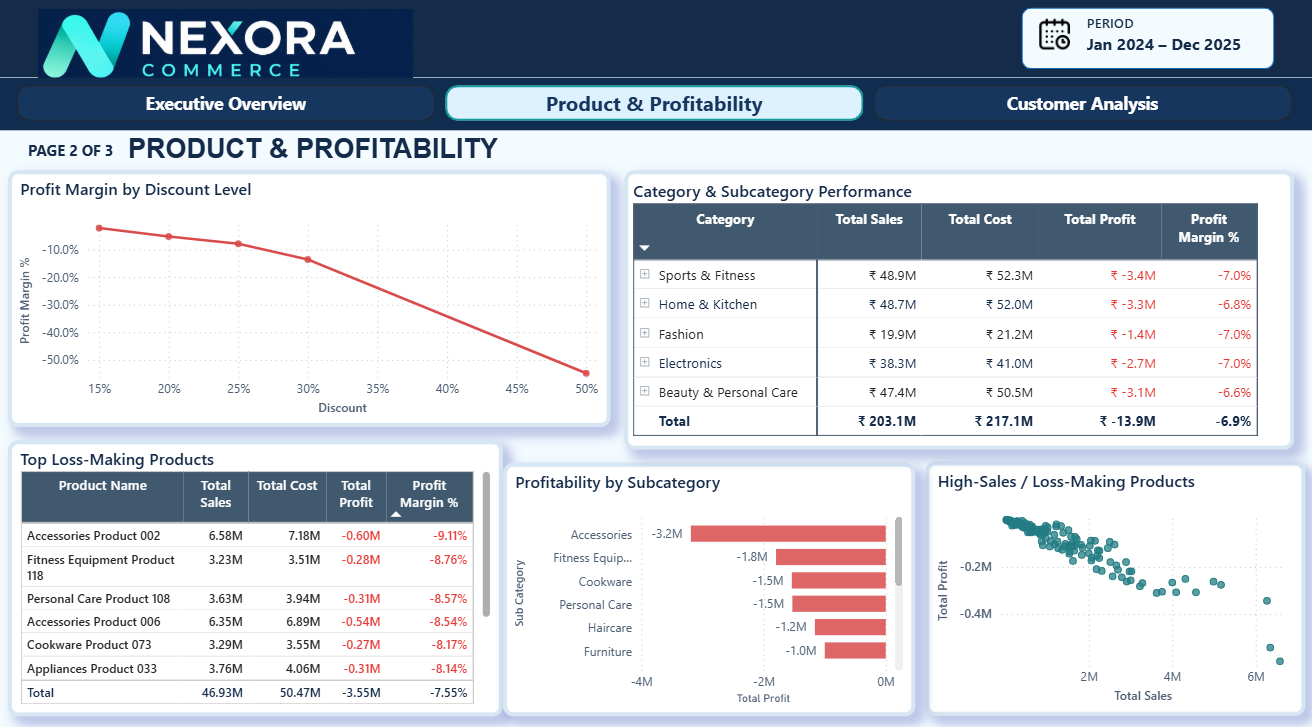

The dashboard page shown, as its layout file describes it:
{"tool":"powerbi","page":{"name":"Product & Profitability","canvas":[1300,720],"ordinal":1},"visuals":[{"type":"shape","box":[0,0,1300.5,77.2],"z":0},{"type":"image","box":[10,10,429.5,77.2],"z":1000},{"type":"shape","box":[0,77.2,1300.5,51.9],"z":2000},{"type":"textbox","box":[24.8,134.6,126.7,33.8],"z":3000},{"type":"textbox","box":[123.3,127.9,516.3,40.7],"z":4000},{"type":"pageNavigator","box":[18.7,85,1261.3,35.4],"z":5000},{"type":"shape","box":[1011.3,8.5,249.3,60.6],"z":6000},{"type":"textbox","box":[1070.4,9.9,166.2,59.2],"z":7000},{"type":"image","box":[1028.2,9.9,30.7,49.6],"z":8000},{"type":"lineChart","title":"Profit Margin by Discount Level","fields":{"Y":["order_details_clean.Profit Margin %"],"Category":["order_details_clean.Discount"]},"box":[9.8,168.6,595.1,253.6],"z":9000},{"type":"scatterChart","title":"High-Sales / Loss-Making Products","fields":{"X":["order_details_clean.Total sales"],"Y":["order_details_clean.Total Profit"],"Category":["products_clean.Product_Name"]},"box":[915.9,457.3,384.1,251.2],"z":10000},{"type":"tableEx","title":"Top Loss-Making Products","fields":{"Values":["products_clean.Product_Name","order_details_clean.Total sales","order_details_clean.Total Cost","order_details_clean.Total Profit","order_details_clean.Profit Margin %"]},"box":[10,435.3,488.7,272.7],"z":11000},{"type":"barChart","title":"Profitability by Subcategory","fields":{"Category":["products_clean.Subcategory"],"Y":["order_details_clean.Total Profit"]},"box":[498.6,457.7,407,250.7],"z":12000},{"type":"pivotTable","title":"Category & Subcategory Performance","fields":{"Rows":["products_clean.Category","products_clean.Subcategory"],"Values":["order_details_clean.Total sales","order_details_clean.Total Cost","order_details_clean.Total Profit","order_details_clean.Profit Margin %"]},"box":[618.8,168.6,662,275.9],"z":13000}]}

Visuals, with their boxes in screenshot pixels (x1, y1, x2, y2), scaled from the page's 1300x720 canvas onto the 1312x727 screenshot:
shape: 0 0 1311 78
image: 10 10 444 88
shape: 0 78 1311 130
textbox: 25 136 153 170
textbox: 124 129 646 170
pageNavigator: 19 86 1292 122
shape: 1021 9 1272 70
textbox: 1080 10 1248 70
image: 1038 10 1069 60
"Profit Margin by Discount Level" lineChart: 10 170 610 426
"High-Sales / Loss-Making Products" scatterChart: 924 462 1311 715
"Top Loss-Making Products" tableEx: 10 440 503 715
"Profitability by Subcategory" barChart: 503 462 914 715
"Category & Subcategory Performance" pivotTable: 625 170 1293 449
